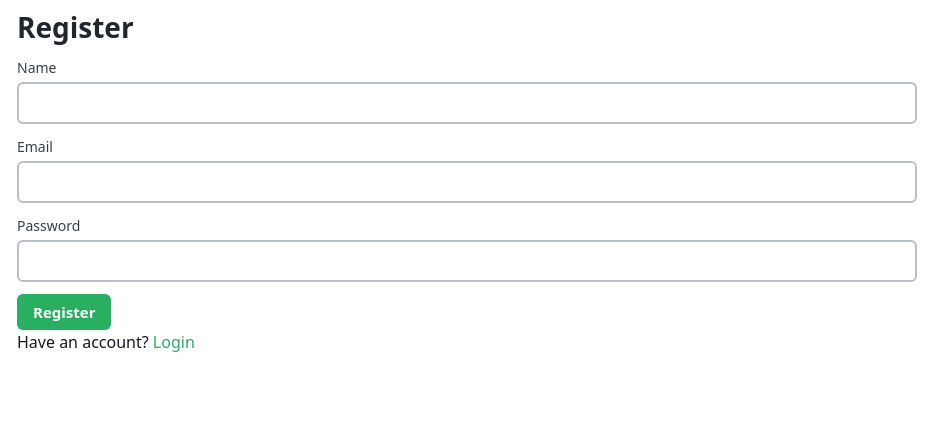
Test: Register Page › shows error on failed registration (e.g., duplicate email)
Type "existing@example.com" into the field below "Name".
click(467, 103); type("existing@example.com")  # box [17,82,917,124]
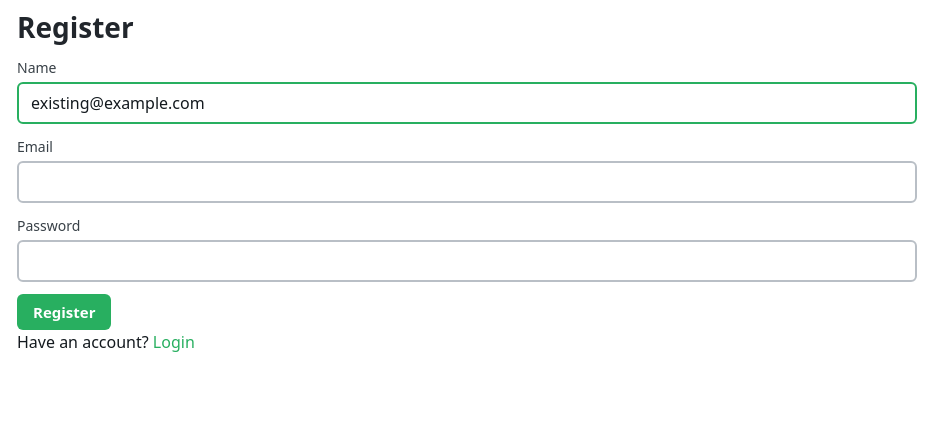
Type "John Doe" into the field below "Email".
click(467, 182); type("John Doe")  # box [17,161,917,203]
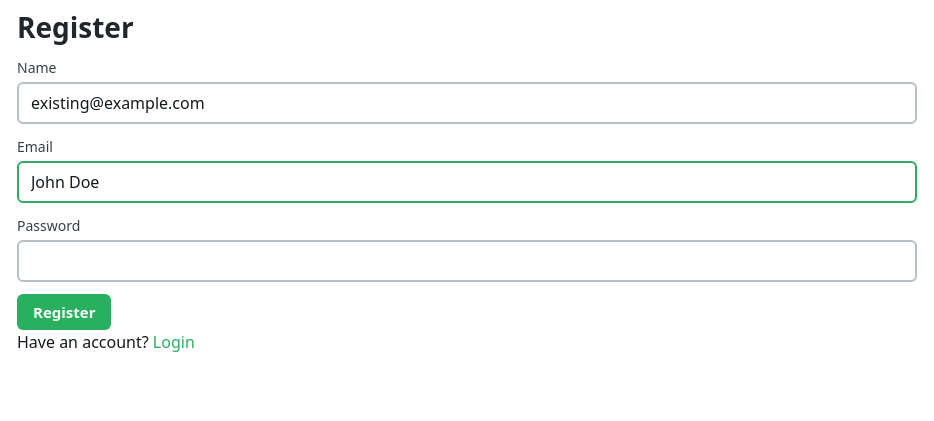
Click the button "Register".
click(64, 312)  # box [17,294,112,330]
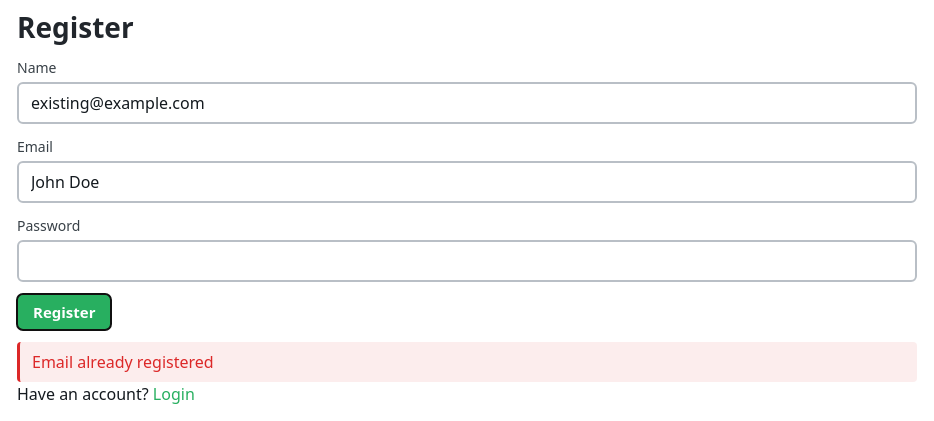
Check: the text "Email already registered" is shown, box [17,342,917,382]
